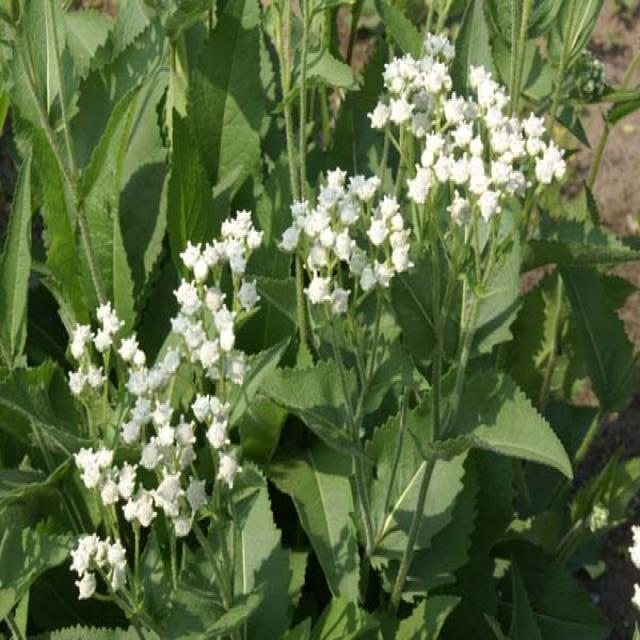Poisonous-Parthenium: (295, 20, 570, 640), (49, 201, 292, 640)
